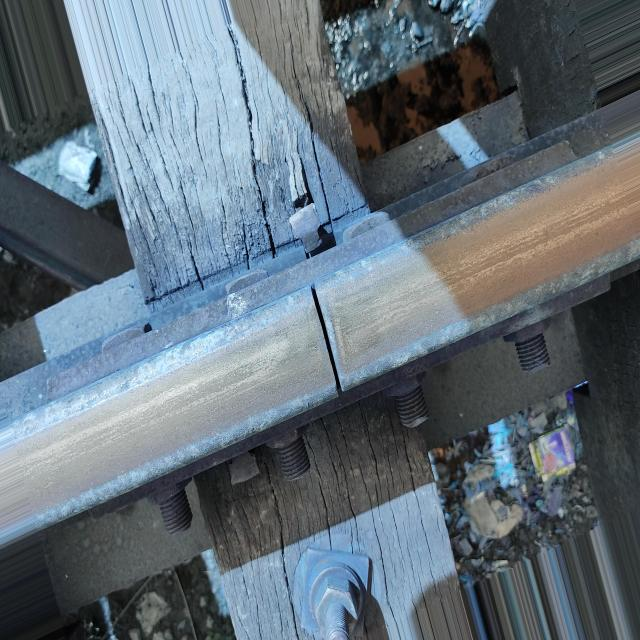crack: (289, 272, 380, 428)
